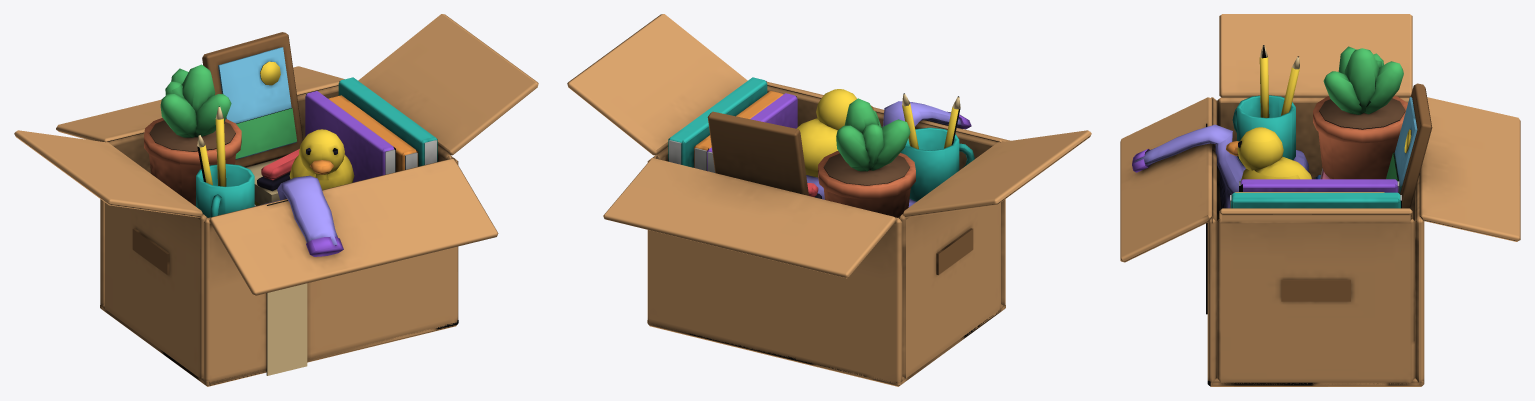
The model's file is held_box.glb.
The picture shows the model from 3 angles, left to right: view 1: azimuth 30°, elevation 25°; view 2: azimuth 150°, elevation 25°; view 3: azimuth 270°, elevation 25°; orthographic projection.
Parts seen in each view (by area): view 1: held_box; view 2: held_box; view 3: held_box.
Part boxes in pixels (<box>): held_box: <box>14,14,538,386</box>; held_box: <box>567,14,1091,386</box>; held_box: <box>1120,14,1520,386</box>.
Size of the model in its own units: 0.6457 by 0.3601 by 0.5176.
18 materials, 18 textured.
